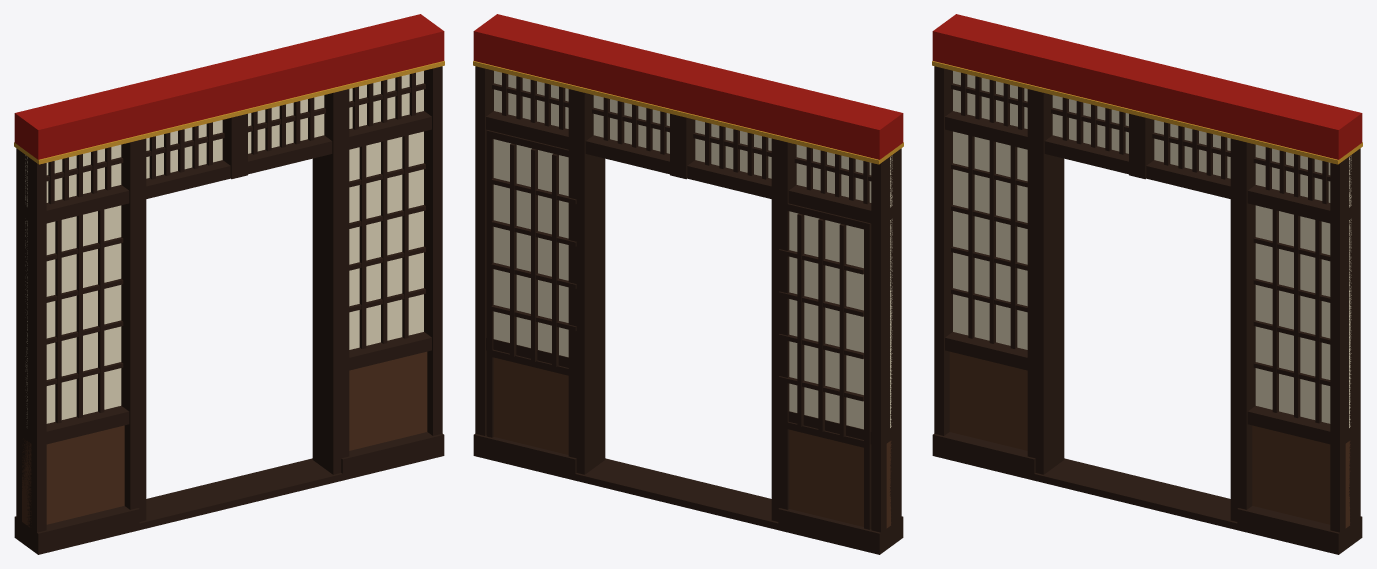
Rendered from SM_Bld_Shoji_Wall_Door_01.fbx.
The picture shows the model from 3 angles, left to right: view 1: azimuth 30°, elevation 25°; view 2: azimuth 150°, elevation 25°; view 3: azimuth 330°, elevation 25°; orthographic projection.
Parts seen in each view (by area): view 1: SM_Bld_Shoji_Wall_Door_01; view 2: SM_Bld_Shoji_Wall_Door_01; view 3: SM_Bld_Shoji_Wall_Door_01.
Part boxes in pixels (<box>): SM_Bld_Shoji_Wall_Door_01: <box>14,14,444,554</box>; SM_Bld_Shoji_Wall_Door_01: <box>473,14,903,554</box>; SM_Bld_Shoji_Wall_Door_01: <box>932,14,1362,554</box>.
Bounding box in the file's own units: 5 × 5 × 0.53.
2 materials, 2 textured.
